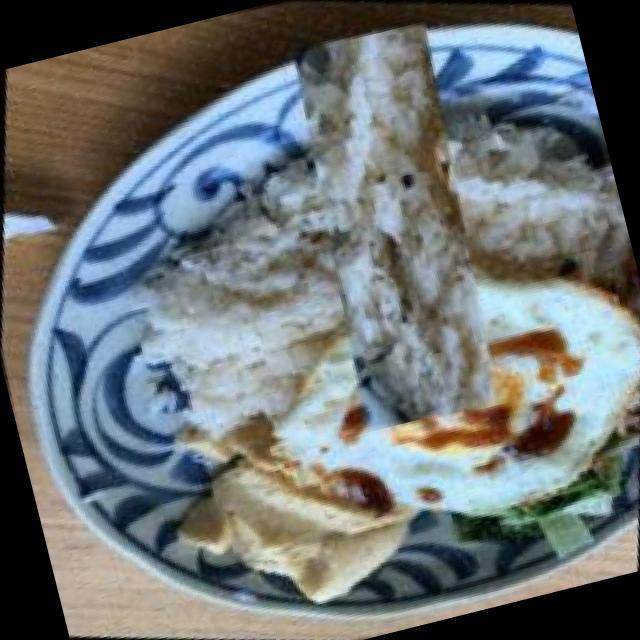fried_eggs: (181, 152, 640, 640)
rice: (164, 0, 625, 457)
